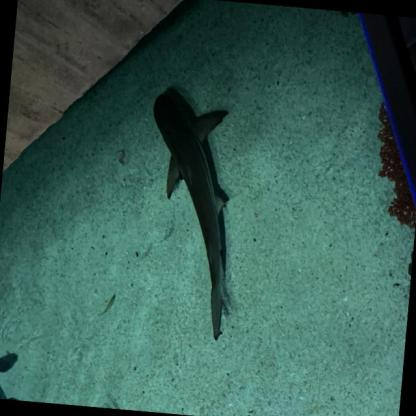fish: (0, 349, 18, 378)
shark: (133, 93, 251, 342)
